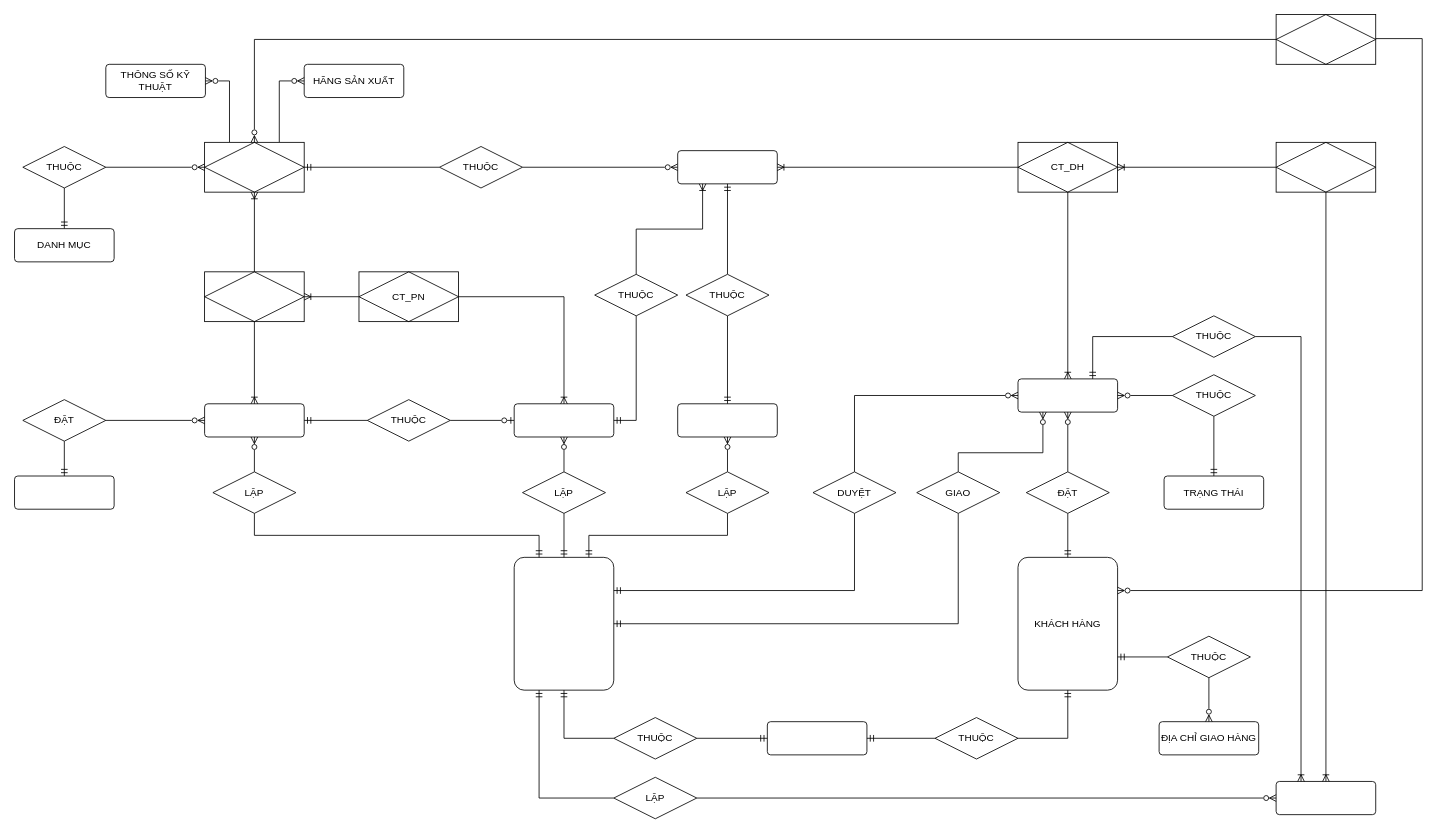
This 1443x833 diagram has some shape labels left out. The shapes that lost their labels are listed below. From the top down, each one's centre as x and y in pixels, then its label:
At (1325,39): "CT_GH".
At (254,167): "MODEL".
At (727,167): "LAPTOP".
At (1325,167): "CT_PT".
At (254,296): "CT_PD".
At (1067,395): "ĐƠN HÀNG".
At (254,420): "PHIẾU ĐẶT".
At (563,420): "PHIẾU NHẬP".
At (727,420): "PHIẾU THANH LÝ".
At (64,492): "NHÀ CUNG CẤP".
At (563,623): "NHÂN VIÊN".
At (817,738): "TÀI KHOẢN".
At (1325,798): "PHIẾU TRẢ".
